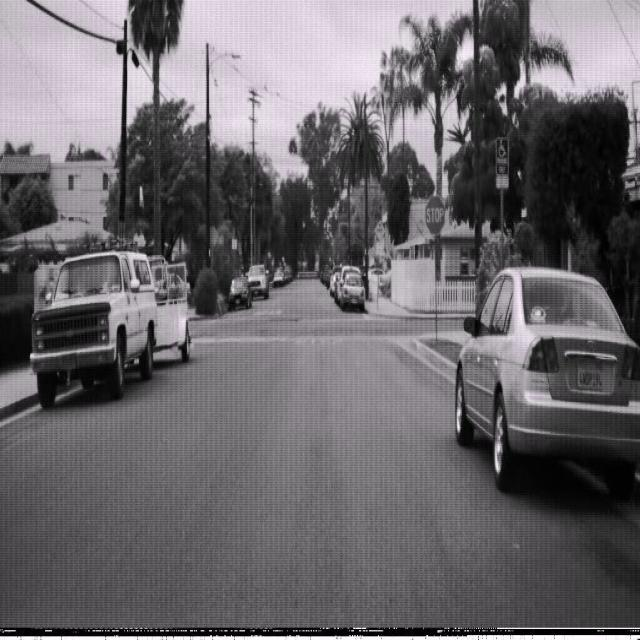stop_sign: (425, 194, 445, 235)
